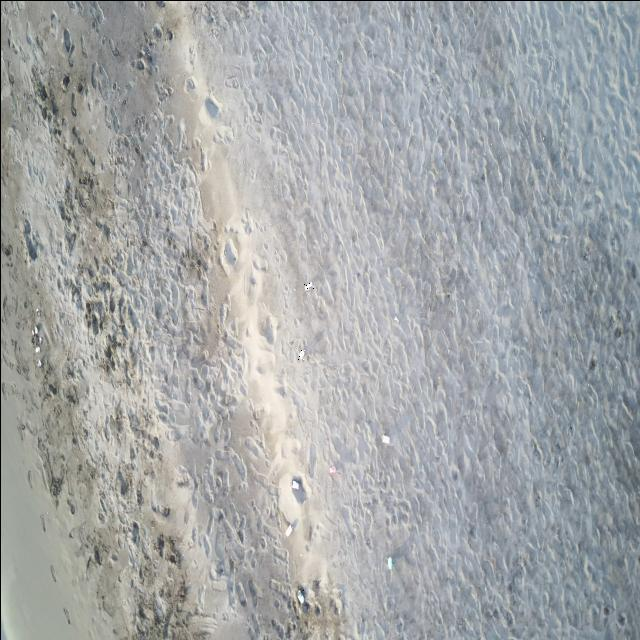Garbage: (292, 476, 304, 503), (284, 519, 296, 536), (296, 587, 303, 604), (380, 433, 390, 444), (303, 280, 313, 289), (284, 524, 292, 535), (328, 464, 335, 475), (298, 348, 304, 360), (387, 555, 392, 569), (291, 479, 299, 487), (35, 359, 42, 367), (32, 326, 37, 335), (35, 307, 40, 316), (35, 346, 39, 352)
